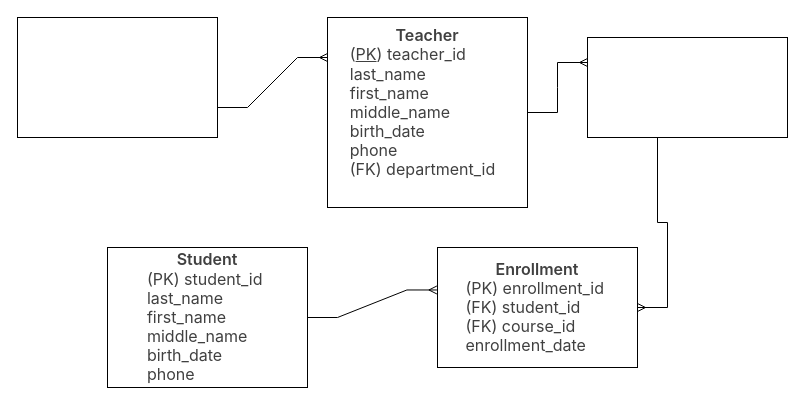
Some shapes in this 805 by 405 pixel diagram are drawn without their labels. The centre of each missing label's shape, as x and y in pixels:
"Course (PK) course_id title hours (FK) teacher_id" belongs at point (687, 87).
"Department ( PK ) department_id name charter" belongs at point (117, 77).
